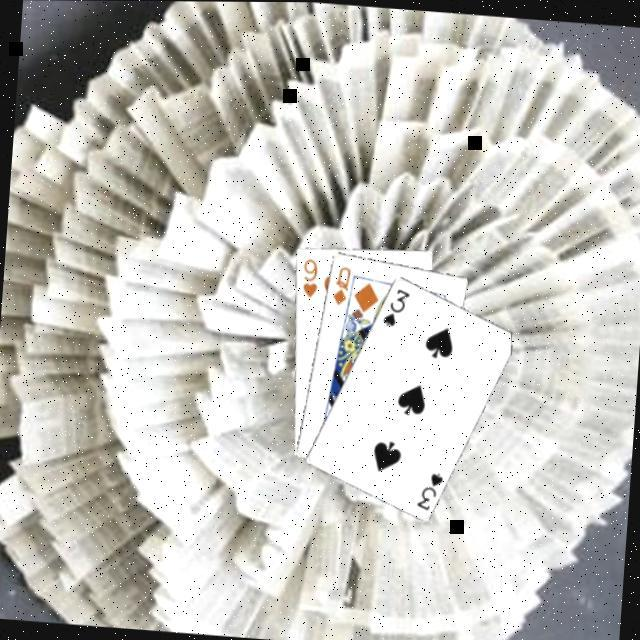3S: (411, 465, 444, 511), (378, 281, 410, 327)
9H: (295, 252, 319, 298)
QD: (326, 259, 352, 305)
